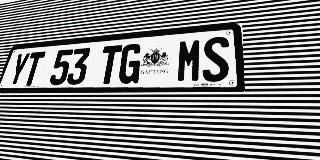3: (66, 48, 91, 85)
5: (48, 49, 74, 85)
G: (117, 43, 143, 84)
M: (176, 38, 202, 83)
S: (202, 36, 229, 82)
T: (97, 45, 123, 84), (21, 51, 46, 86)
Y: (7, 53, 31, 86)
